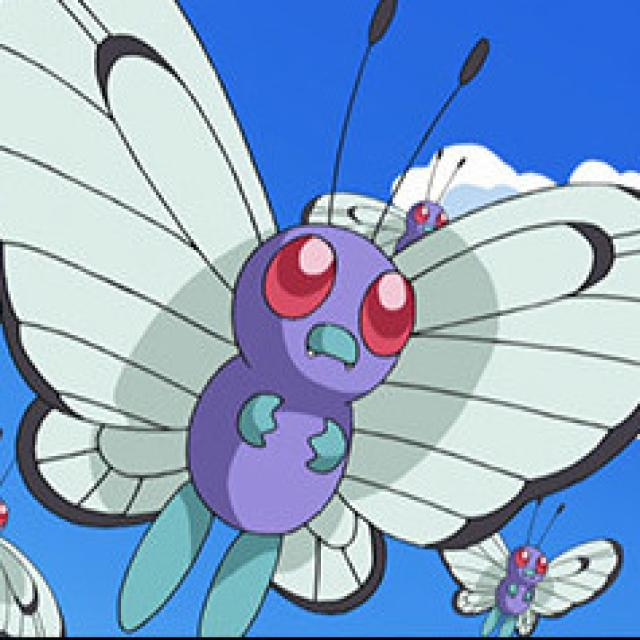Butterfree: (55, 198, 541, 550), (444, 534, 617, 638)
